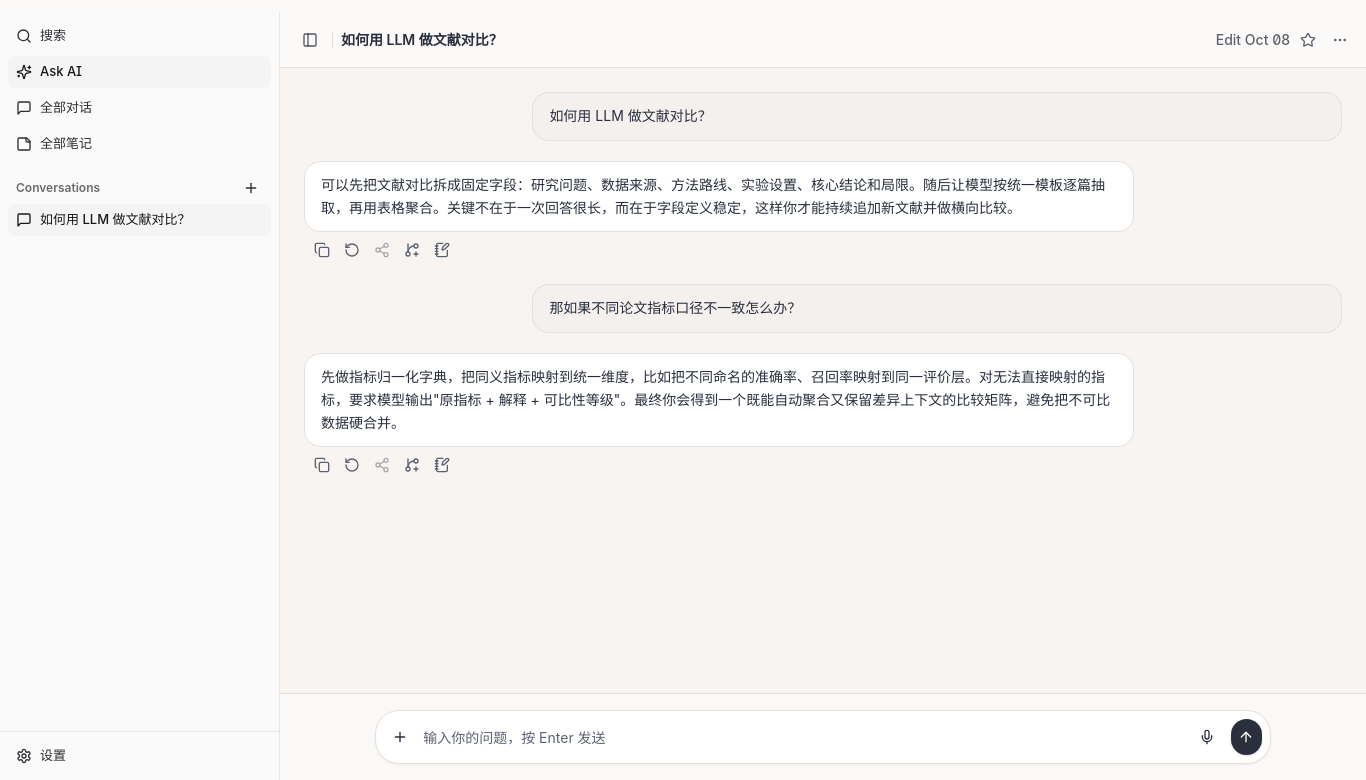
Test: HomePage › opens topbar more menu and toggles favorite state
Click the button named "Favorite": (1308, 40) [1294,26,1322,54]
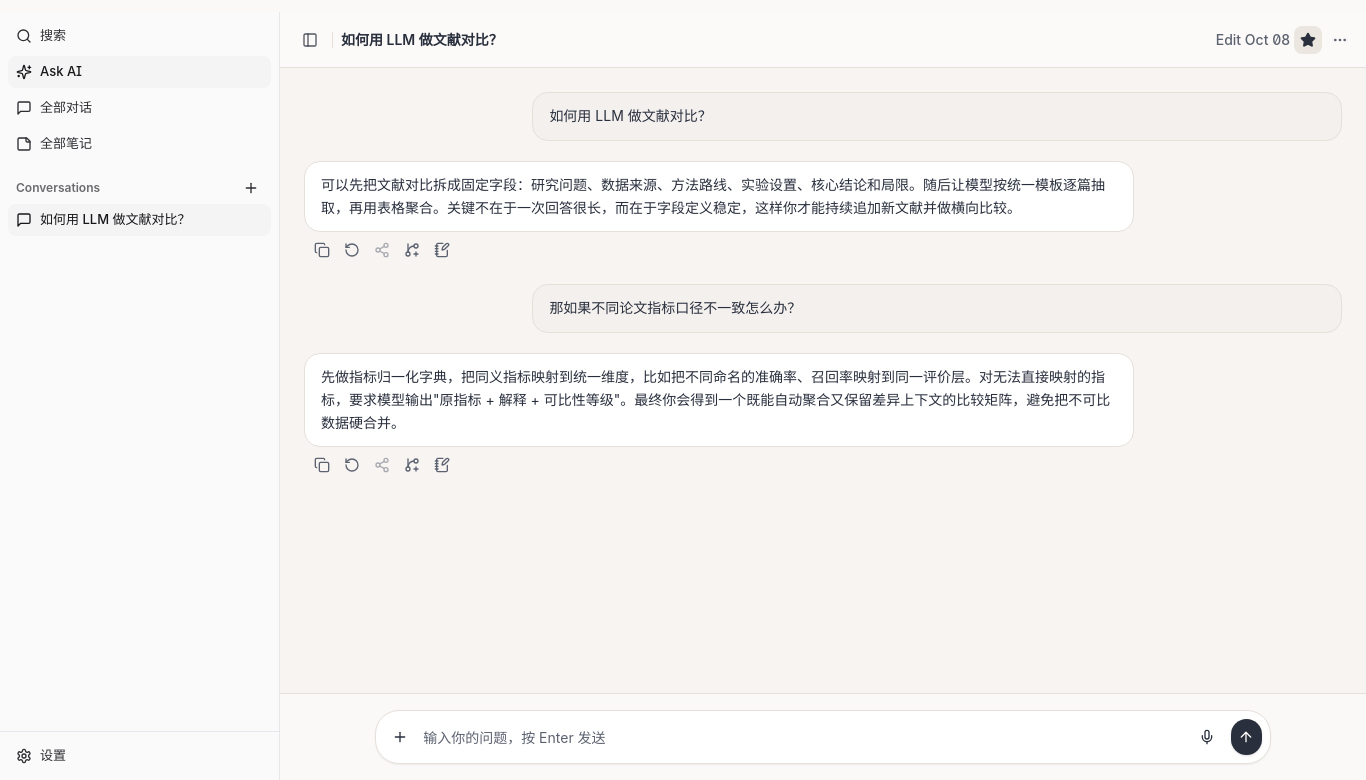
Check: the button named "Favorite" is pressed, box [1294,26,1322,54]
Click the button named "More actions": (1340, 40) [1326,26,1354,54]
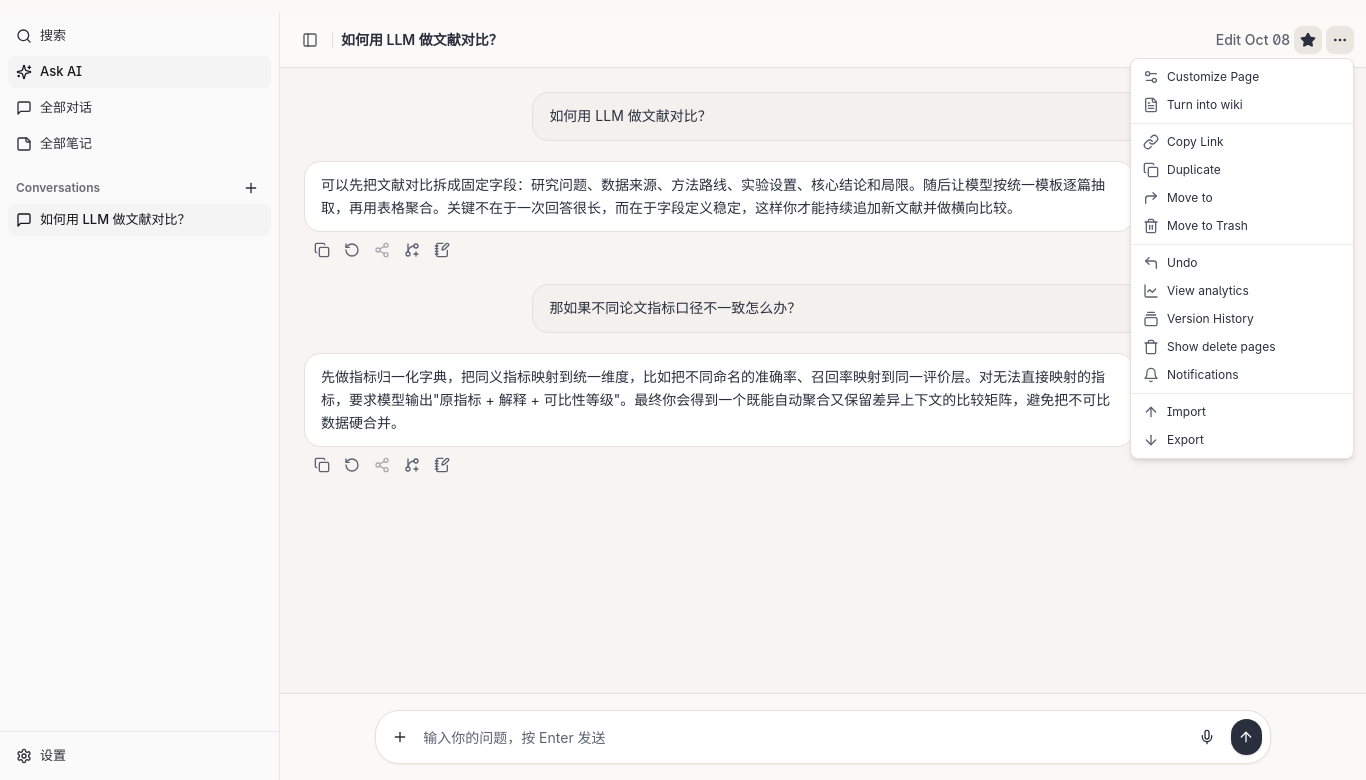
Check: the menu item "Customize Page" is shown, box [1143,69,1259,85]
